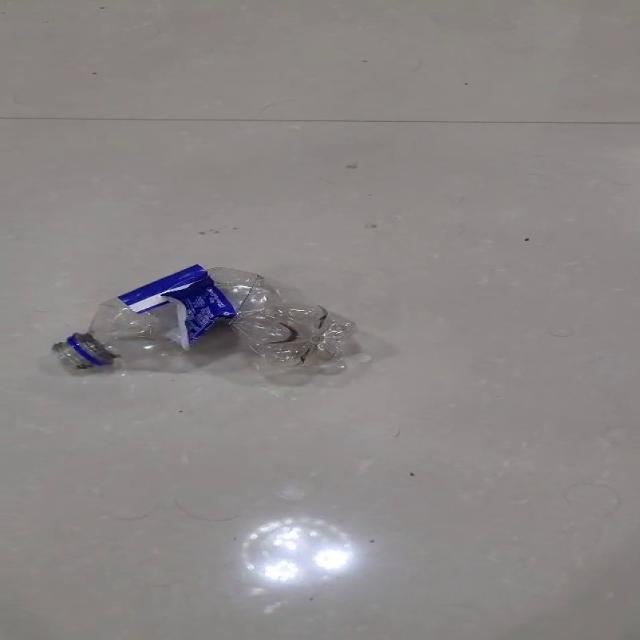plastic: (51, 264, 363, 378)
